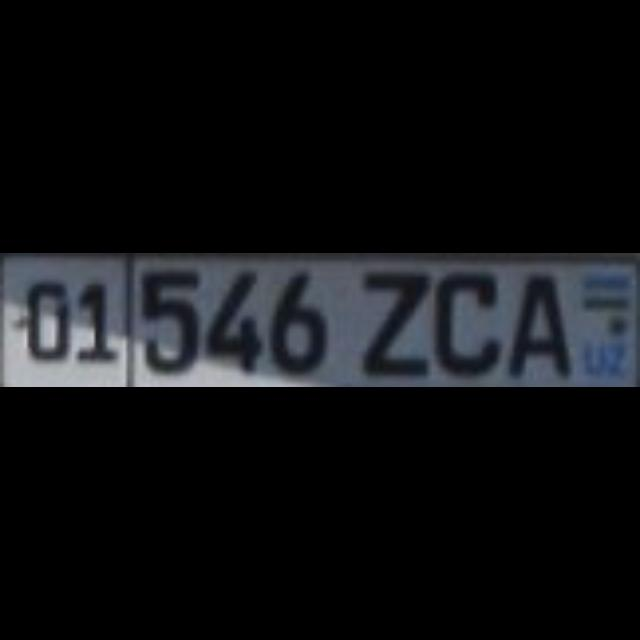0: (24, 280, 66, 356)
1: (71, 276, 111, 352)
4: (202, 264, 256, 368)
5: (134, 260, 193, 368)
6: (264, 268, 324, 372)
A: (506, 268, 564, 372)
C: (426, 264, 494, 368)
Z: (356, 264, 422, 372)
